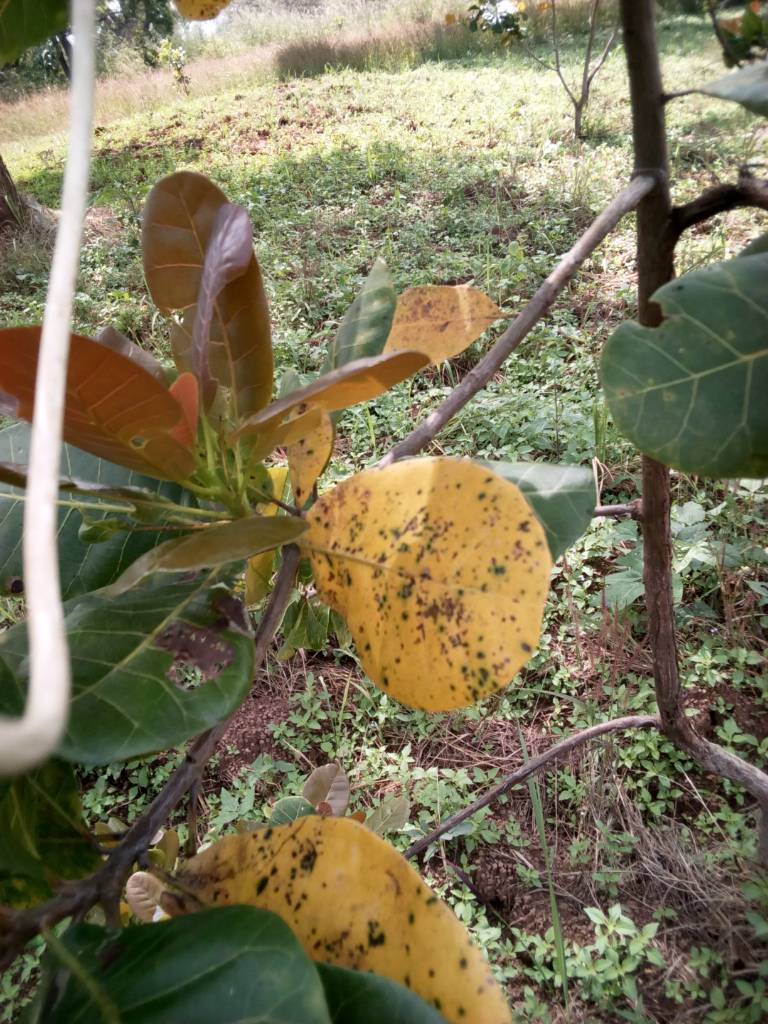Anthracnose: (193, 791, 521, 1013), (322, 458, 554, 714), (394, 275, 508, 358)
